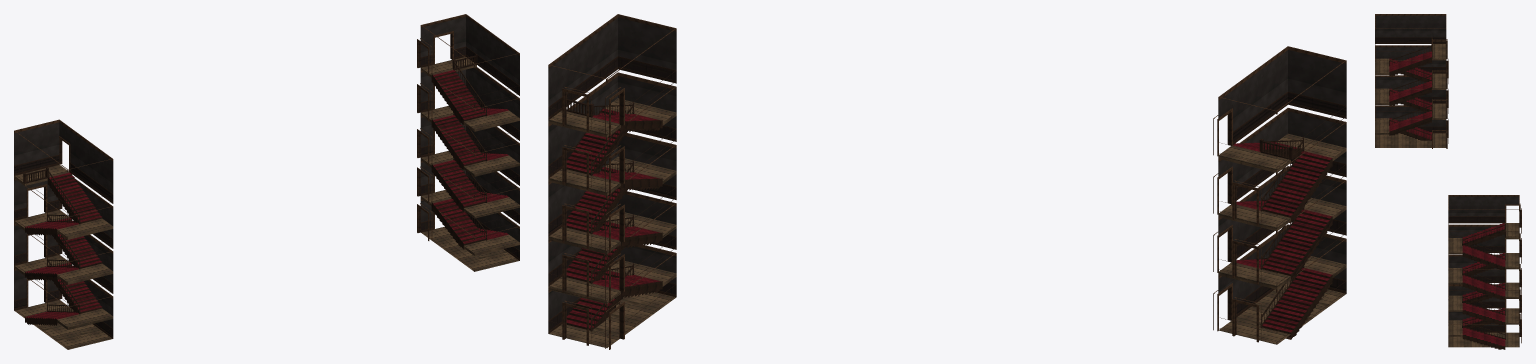
File: manor_core.glb
3 renders of one model, left to right at view 1: azimuth 30°, elevation 25°; view 2: azimuth 150°, elevation 25°; view 3: azimuth 270°, elevation 25°, orthographic. The views are drawn at different scales.
Parts seen in each view (by area): view 1: manor_core; view 2: manor_core; view 3: manor_core.
Part boxes in pixels (bbox=[...]): manor_core: bbox=[14, 14, 519, 349]; manor_core: bbox=[548, 14, 1346, 349]; manor_core: bbox=[1375, 14, 1521, 349].
Size of the model in its own units: 63.94 by 31.1 by 24.07.
Materials: 7 (7 with a texture image).
